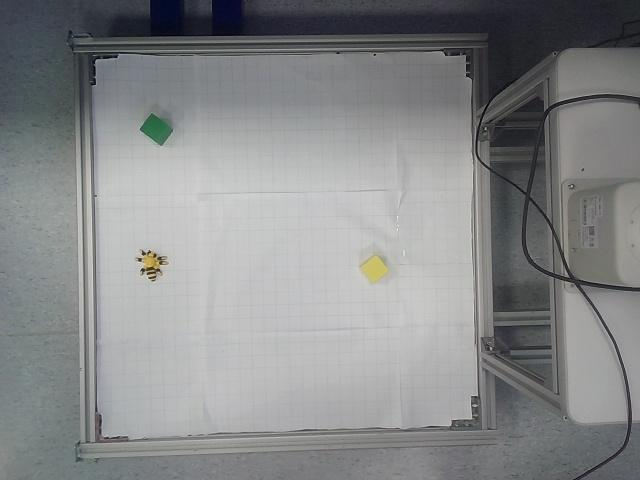frelon: (136, 249, 169, 282)
